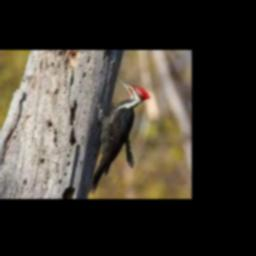Woodpecker: (89, 78, 150, 194)
